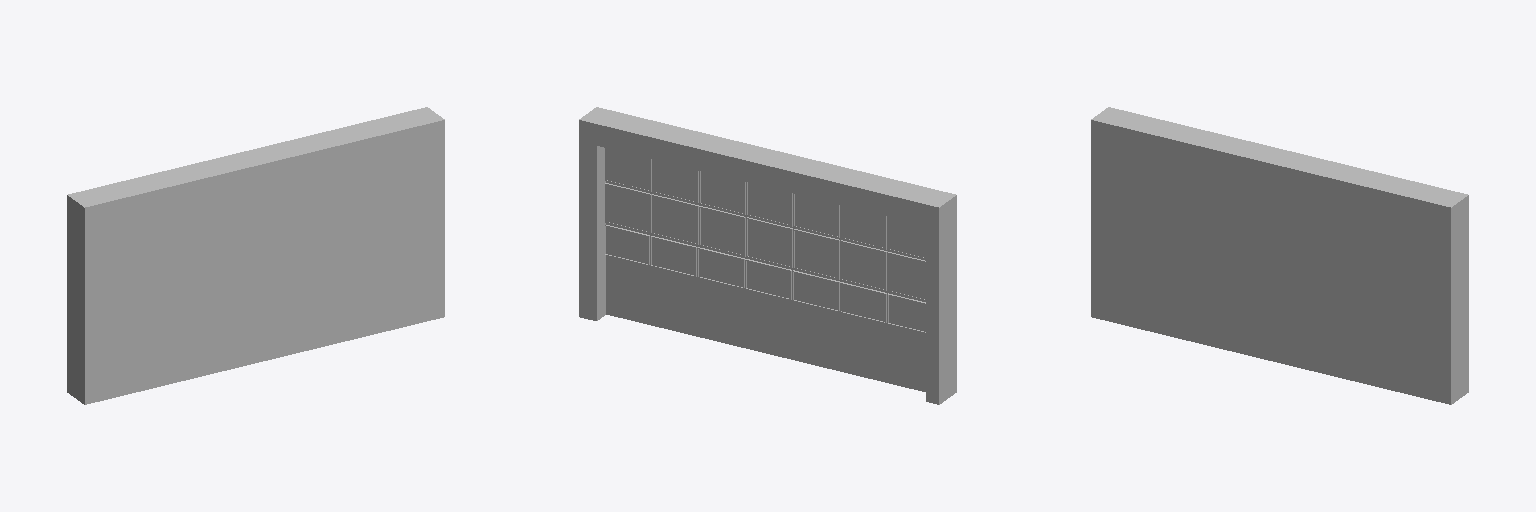
Rendered from wall plain.obj.
3 views of the same model, side by side, from view 1: azimuth 30°, elevation 25°; view 2: azimuth 150°, elevation 25°; view 3: azimuth 330°, elevation 25° (orthographic).
Visible parts, largest first — view 1: Cube.001; view 2: Cube.001; view 3: Cube.001.
Part boxes in pixels (x1,y1,x2,y2): Cube.001: (67, 107, 444, 404); Cube.001: (579, 107, 956, 404); Cube.001: (1091, 107, 1468, 404).
Bounding box in the file's own units: 20.1 × 10.52 × 1.7.